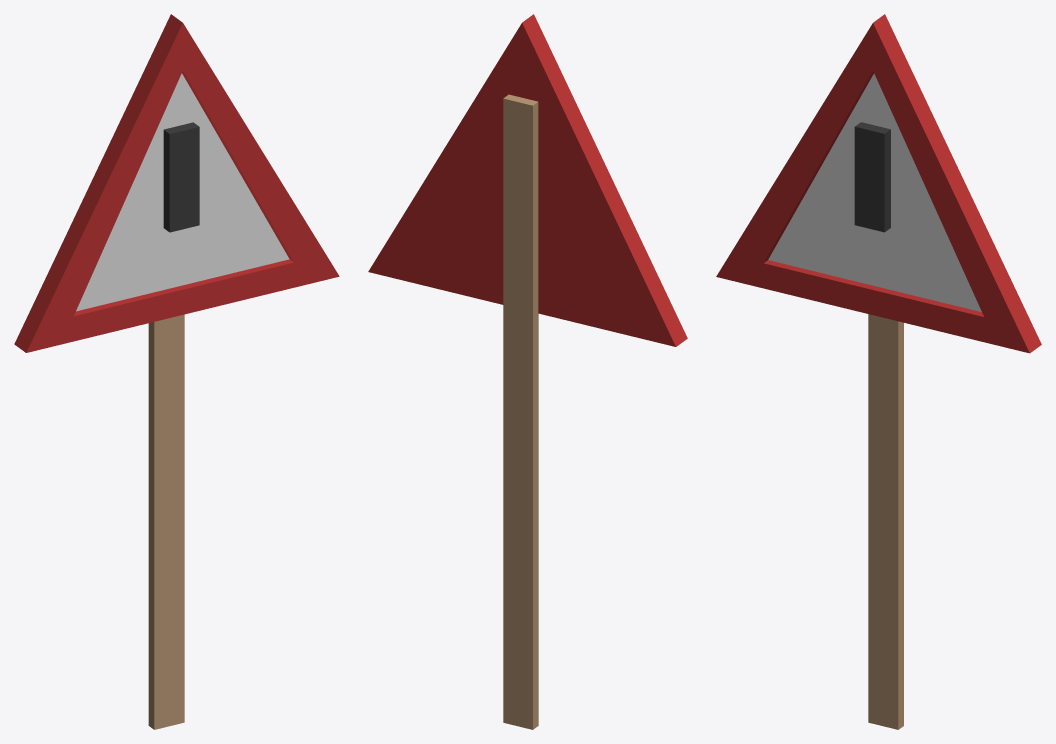
File: Park_WARNING.fbx
3 views of the same model, side by side, from view 1: azimuth 30°, elevation 25°; view 2: azimuth 150°, elevation 25°; view 3: azimuth 330°, elevation 25° (orthographic).
Visible parts, largest first — view 1: polySurface717; view 2: polySurface717; view 3: polySurface717.
Boxes of the visible parts, x1=… form: polySurface717: x1=14, y1=14, x2=339, y2=729; polySurface717: x1=368, y1=14, x2=687, y2=729; polySurface717: x1=716, y1=14, x2=1041, y2=729.
Size of the model in its own units: 5.46 by 11.84 by 0.6066.
